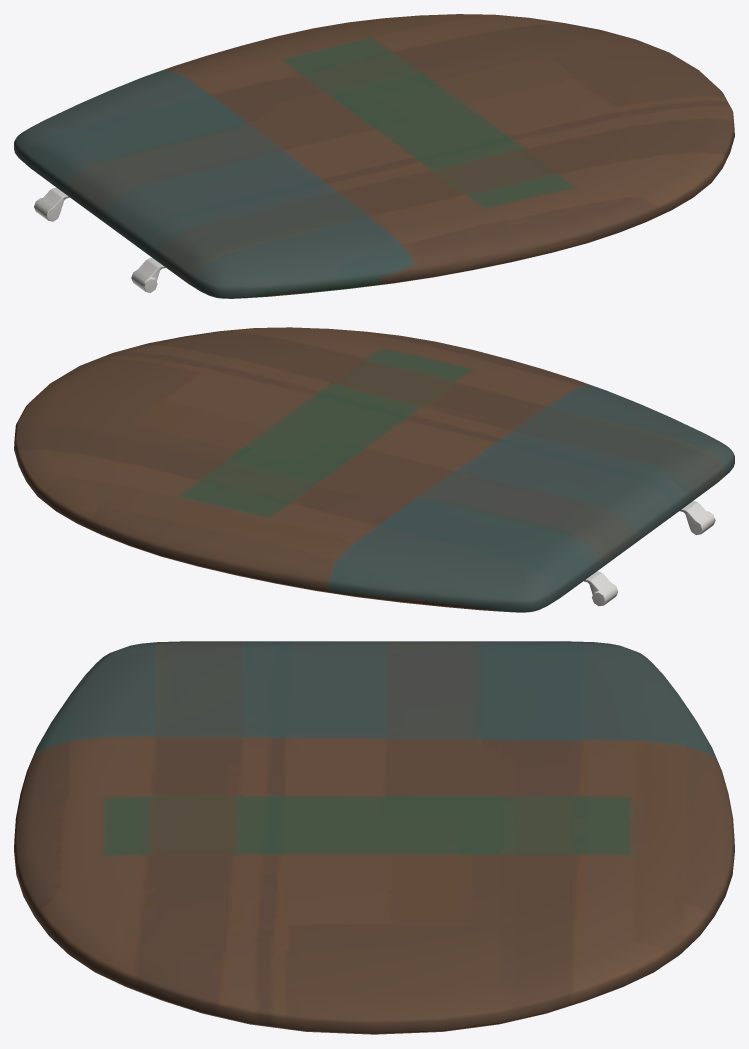
The model's file is DoorPivot #9817.fbx.
The picture shows the model from 3 angles, top to bottom: view 1: azimuth 30°, elevation 25°; view 2: azimuth 150°, elevation 25°; view 3: azimuth 270°, elevation 25°; orthographic projection. The views are drawn at different scales.
Parts seen in each view (by area): view 1: obj_toilet_b_lid_a, obj_toilet_b_hinge_a; view 2: obj_toilet_b_lid_a, obj_toilet_b_hinge_a; view 3: obj_toilet_b_lid_a.
Part boxes in pixels (bbox=[...]): obj_toilet_b_lid_a: bbox=[14, 14, 734, 298]; obj_toilet_b_hinge_a: bbox=[34, 187, 165, 292]; obj_toilet_b_lid_a: bbox=[14, 327, 734, 612]; obj_toilet_b_hinge_a: bbox=[584, 501, 715, 606]; obj_toilet_b_lid_a: bbox=[14, 641, 734, 1034].
Bounding box in the file's own units: 0.4372 × 0.0352 × 0.3442.
2 materials, 1 textured.
